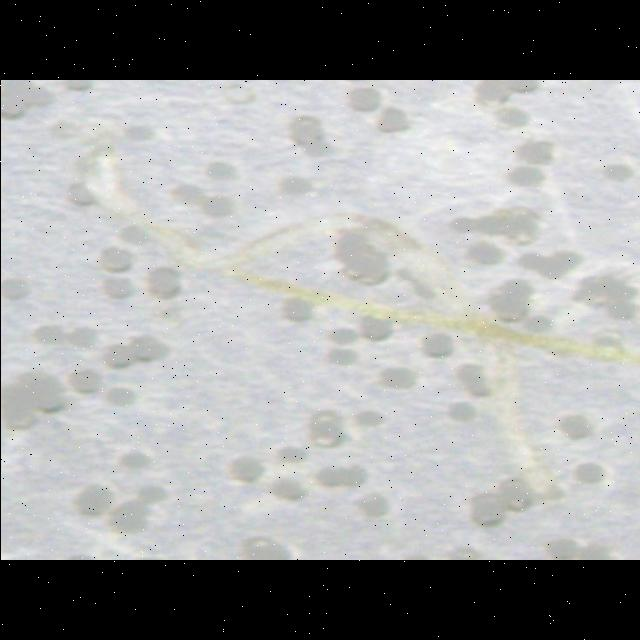Fibre: (46, 147, 640, 503)
